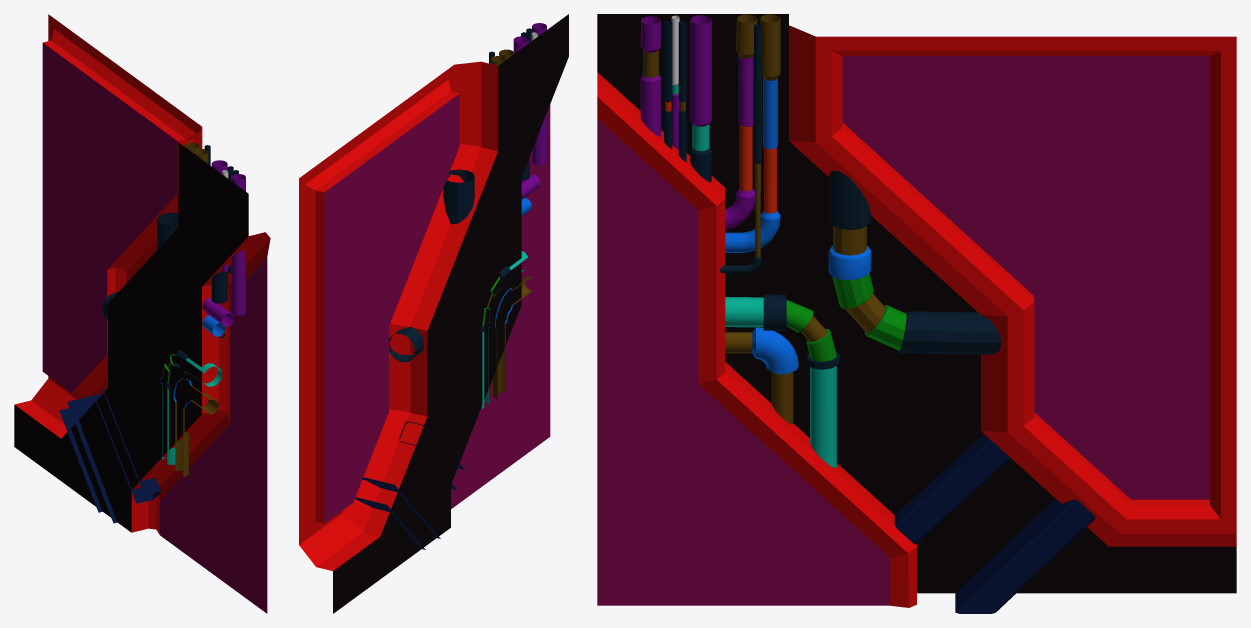
Rendered from OBJ_1_Mur_var2.fbx.
The picture shows the model from 3 angles, left to right: view 1: azimuth 30°, elevation 25°; view 2: azimuth 150°, elevation 25°; view 3: azimuth 270°, elevation 25°; orthographic projection. The views are drawn at different scales.
Parts seen in each view (by area): view 1: OBJ_1_Mur; view 2: OBJ_1_Mur; view 3: OBJ_1_Mur.
Boxes of the visible parts, x1=… form: OBJ_1_Mur: x1=14, y1=14, x2=270, y2=613; OBJ_1_Mur: x1=299, y1=14, x2=568, y2=613; OBJ_1_Mur: x1=597, y1=14, x2=1236, y2=613.
Size of the model in its own units: 113 by 1201 by 1200.
